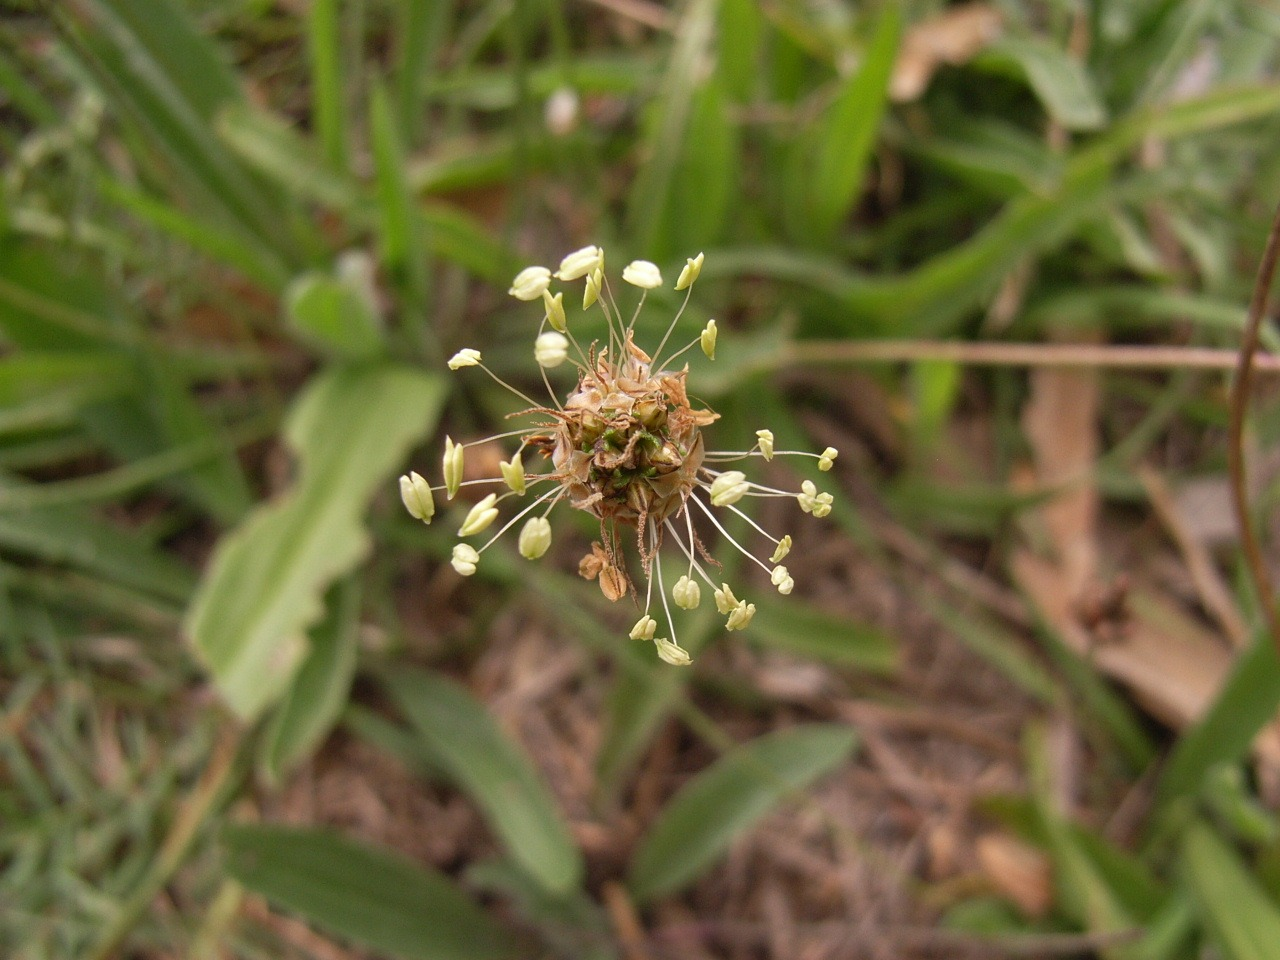buckhorn plantain: (363, 234, 848, 669)
